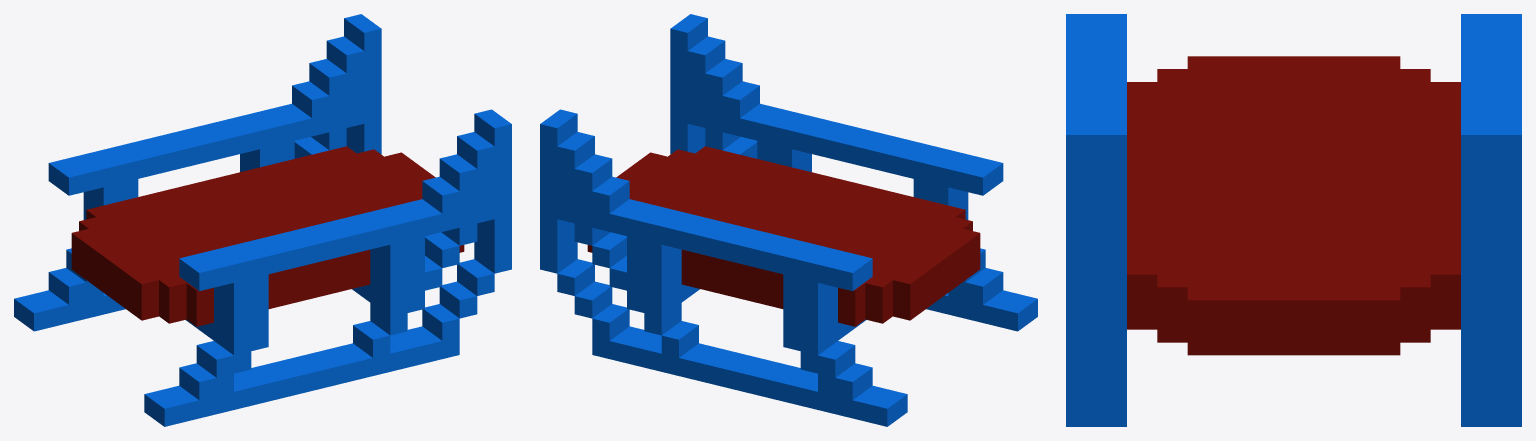
File: Vehicle_9.fbx
3 views of the same model, side by side, from view 1: azimuth 30°, elevation 25°; view 2: azimuth 150°, elevation 25°; view 3: azimuth 270°, elevation 25° (orthographic). The views are drawn at different scales.
Visible parts, largest first — view 1: Vehicle_9; view 2: Vehicle_9; view 3: Vehicle_9.
Part boxes in pixels (<box>): Vehicle_9: <box>14,14,511,426</box>; Vehicle_9: <box>540,14,1037,426</box>; Vehicle_9: <box>1066,14,1521,426</box>.
Bounding box in the file's own units: 20 × 12 × 15.
Materials: 1 (1 with a texture image).
